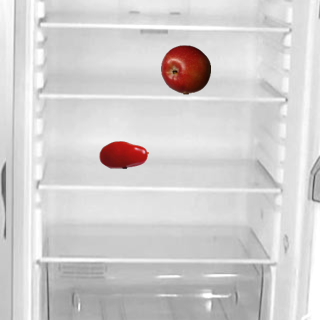Apple Braeburn: (160, 44, 210, 94)
Tomato 2: (98, 129, 148, 179)
